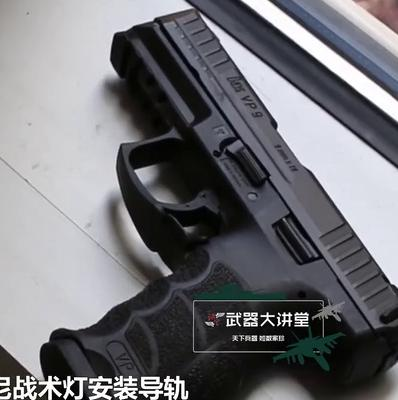gun: (1, 1, 398, 400)
